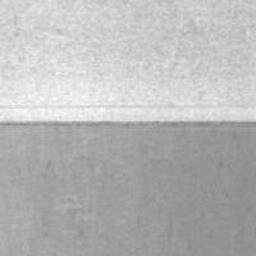Welding line: (0, 119, 256, 128)
